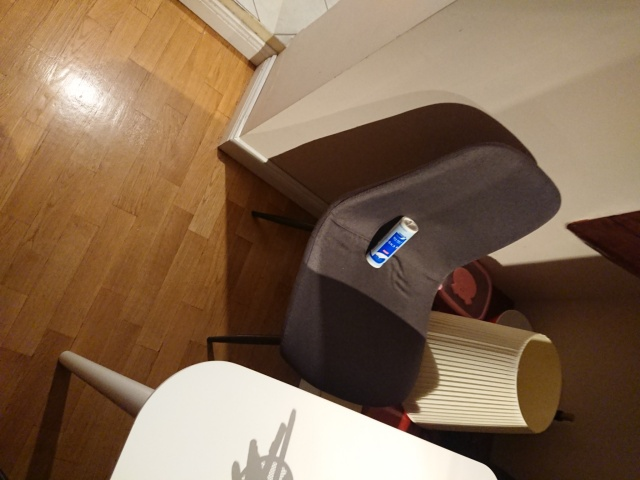Solana Pag Fine Sea Salt 250g: (362, 214, 421, 273)
